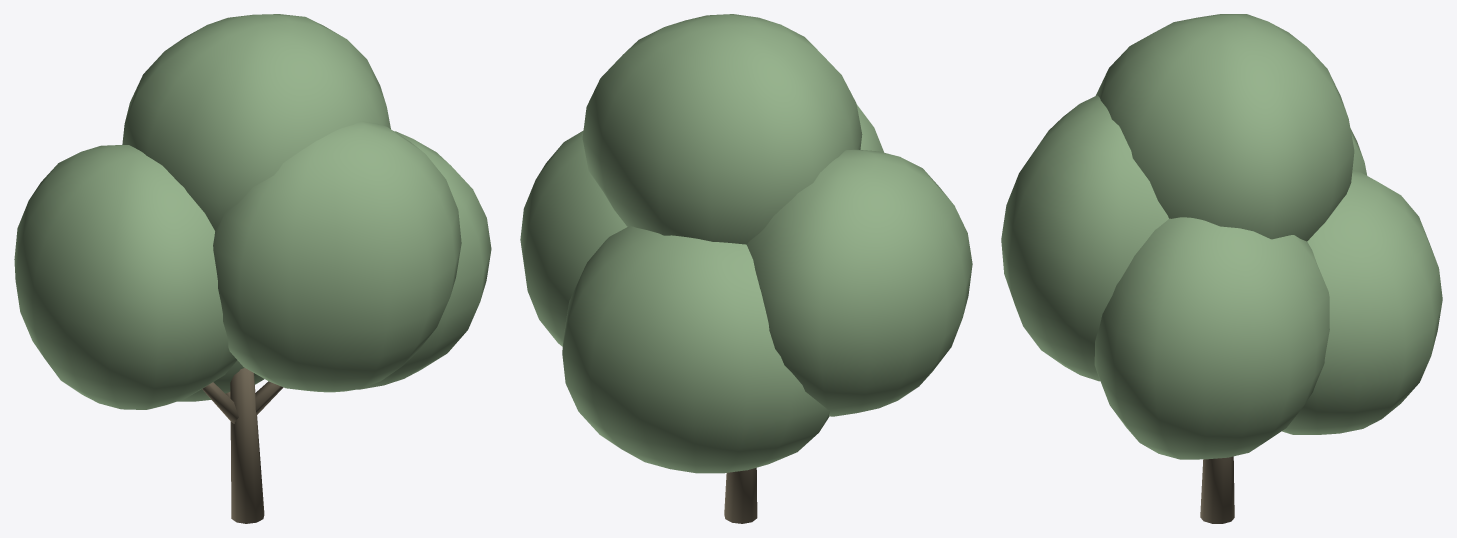
The model's file is SM_MPR_Env_Tree_0.fbx.
The picture shows the model from 3 angles, left to right: view 1: azimuth 30°, elevation 25°; view 2: azimuth 150°, elevation 25°; view 3: azimuth 270°, elevation 25°; orthographic projection.
Parts seen in each view (by area): view 1: SM_MPR_Env_Tree_0; view 2: SM_MPR_Env_Tree_0; view 3: SM_MPR_Env_Tree_0.
Boxes of the visible parts, <box> form: SM_MPR_Env_Tree_0: <box>14,14,491,523</box>; SM_MPR_Env_Tree_0: <box>520,14,972,523</box>; SM_MPR_Env_Tree_0: <box>1001,14,1442,523</box>.
Size of the model in its own units: 784 by 692 by 861.
